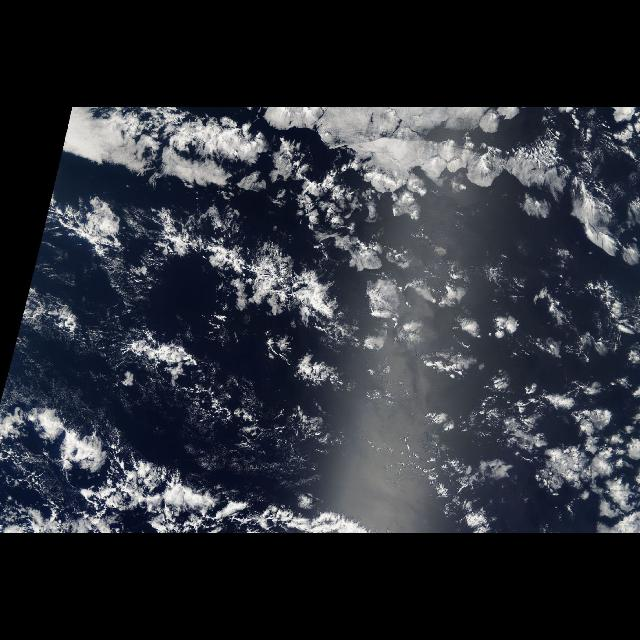Fish: (56, 192, 378, 366), (9, 423, 393, 533)
Flower: (336, 229, 638, 527), (95, 110, 640, 208)
